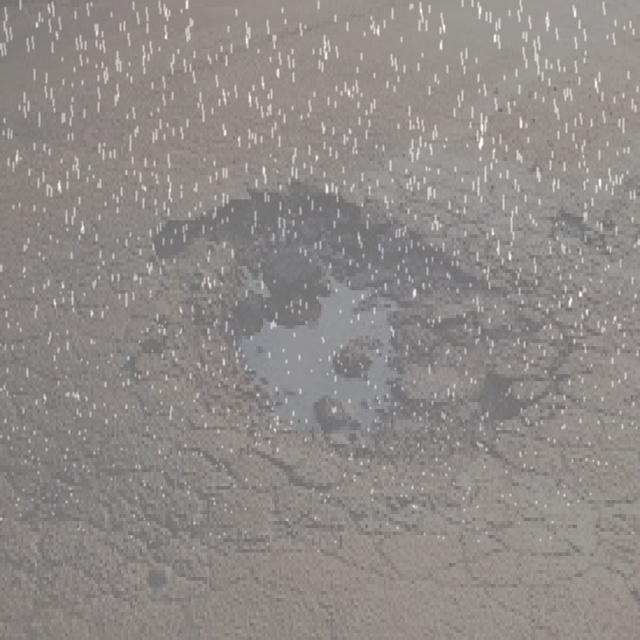Pothole: (124, 162, 584, 509)
